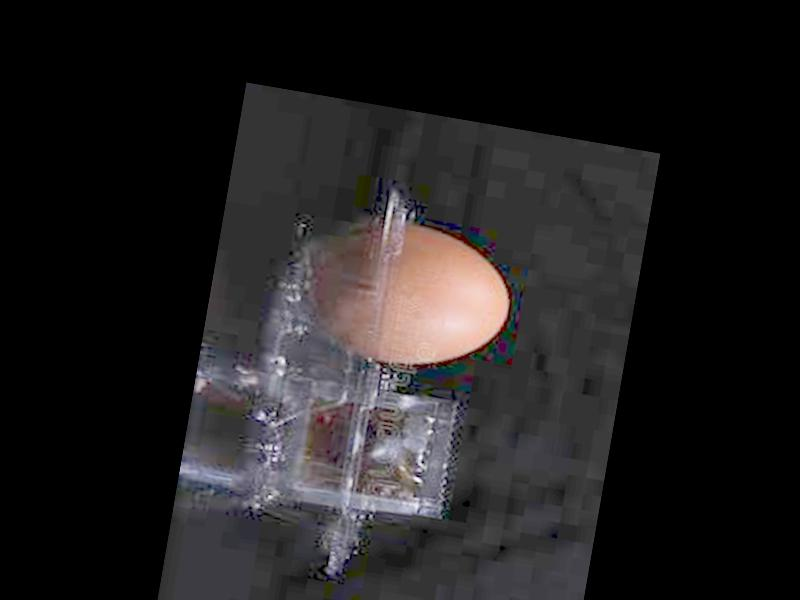Eggs: (291, 205, 519, 379)
